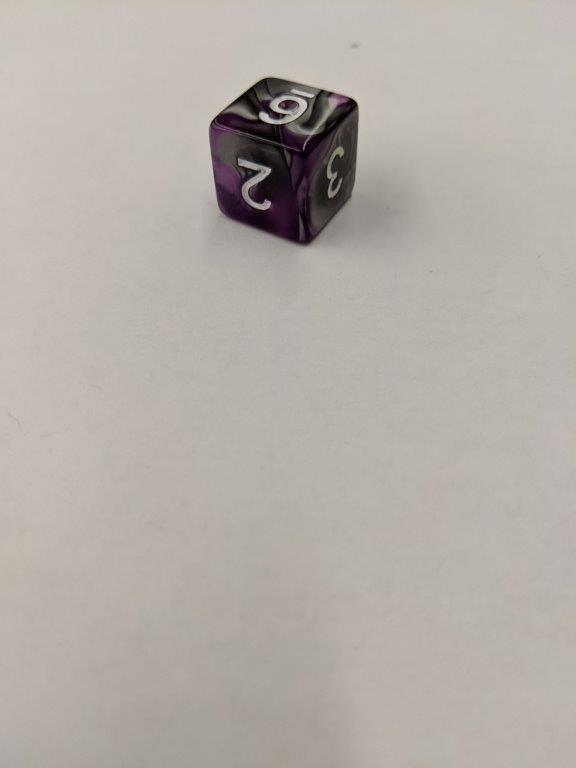d6-6: (209, 78, 358, 245)
